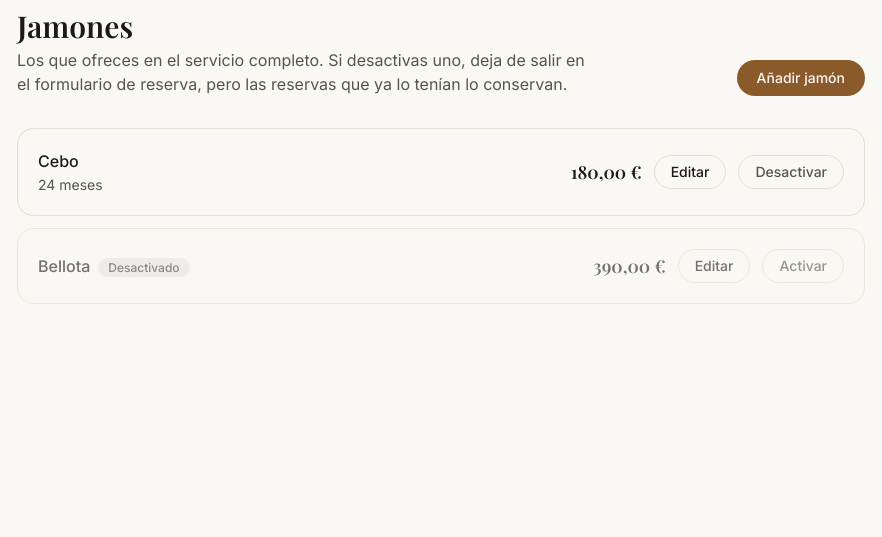
it: AdminHamTypes › si el backend rechaza un campo, muestra el error debajo de ese campo
Expected: the text "Cebo" is shown, x1=38 y1=151 x2=79 y2=171
Click the button "Editar" next to "180,00 €": (690, 172) x1=654 y1=155 x2=726 y2=189
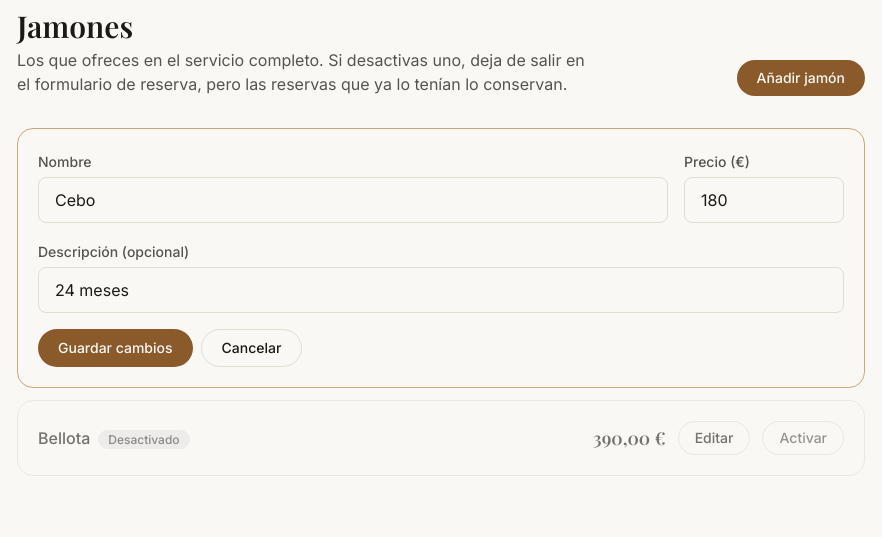
Click the button "Guardar cambios": (115, 348) x1=38 y1=329 x2=192 y2=367
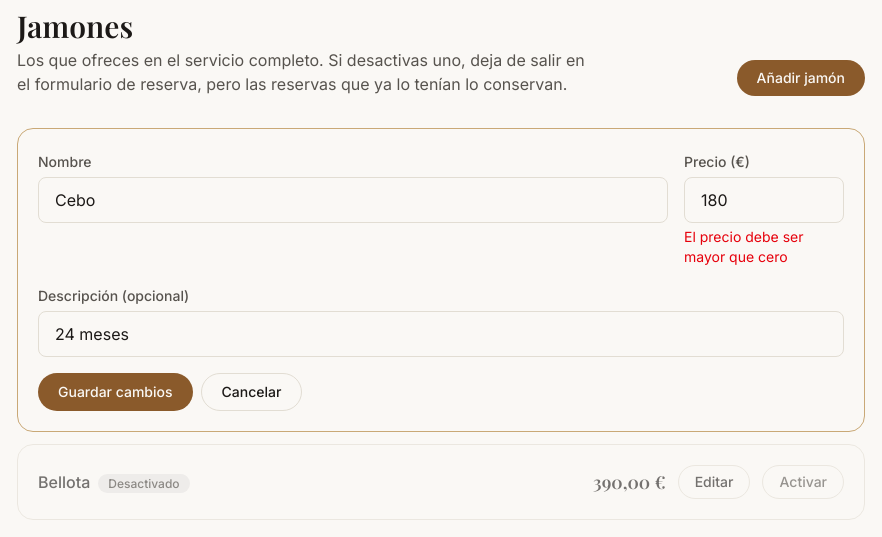
Expected: the text "El precio debe ser mayor que cero" is shown, x1=684 y1=228 x2=804 y2=265
